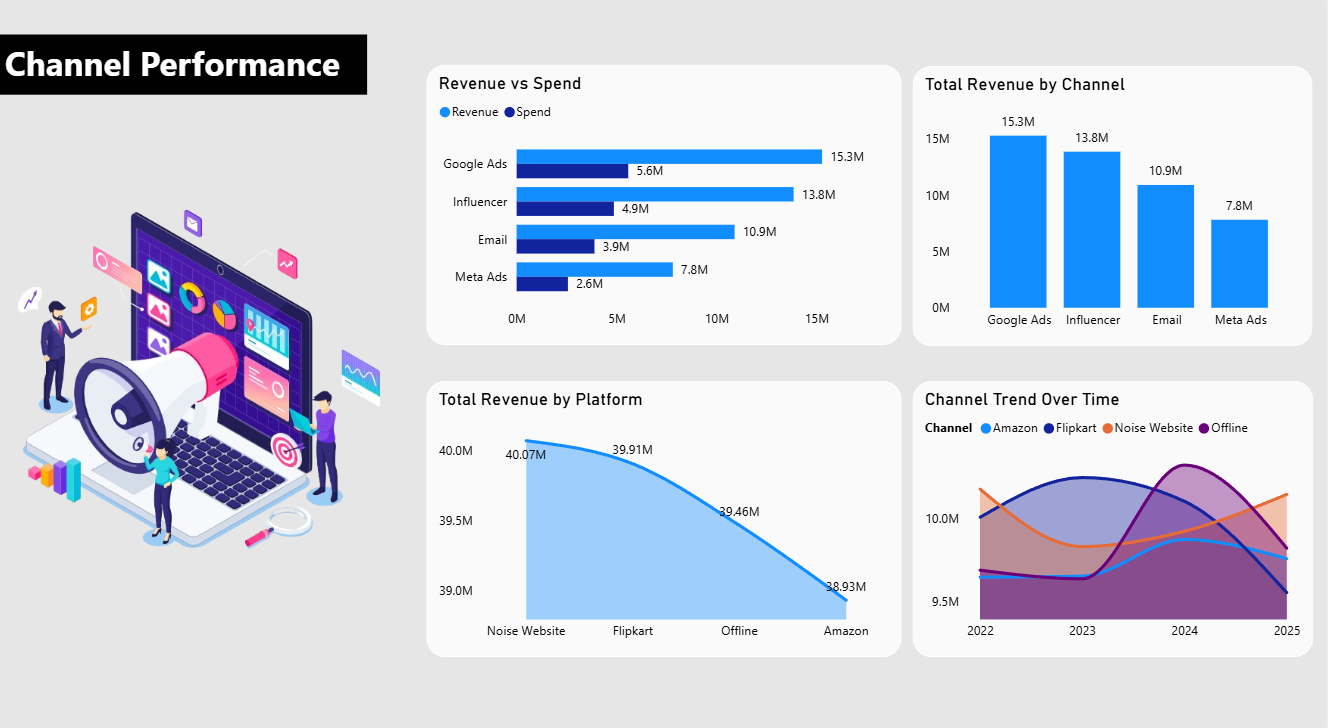

The page's visual inventory and layout, read from the dashboard file:
{"tool":"powerbi","page":{"name":"Channel Performance","canvas":[1280,720],"ordinal":3},"visuals":[{"type":"textbox","box":[0,42.5,355.4,57.6],"z":0},{"type":"clusteredColumnChart","title":"Total Revenue by Channel","fields":{"Y":["Sum(marketing.Revenue)"],"Category":["marketing.Channel"]},"box":[882.3,72.7,385.6,270.3],"z":1000},{"type":"image","box":[0,134.5,381.5,481.6],"z":2000},{"type":"lineChart","title":"Total Revenue by Platform","fields":{"Category":["sales.Channel"],"Y":["sales.Total Revenue"]},"box":[413,376,458.3,266.2],"z":3000},{"type":"clusteredBarChart","title":"Revenue vs Spend","fields":{"Category":["marketing.Channel"],"Y":["Sum(marketing.Revenue)","Sum(marketing.Spend)"]},"box":[413,71.4,458.3,270.3],"z":4000},{"type":"lineChart","title":"Channel Trend Over Time","fields":{"Series":["sales.Channel"],"Y":["Sum(sales.Revenue)"],"Category":["sales.OrderDate.Variation.Date Hierarchy.Year"]},"box":[882,376,386,266],"z":5000}]}

Visuals, with their boxes in screenshot pixels (x1, y1, x2, y2), scaled from the page's 1280x720 canvas onto the 1328x728 screenshot:
textbox: <region>0, 43, 369, 101</region>
"Total Revenue by Channel" clusteredColumnChart: <region>915, 74, 1315, 347</region>
image: <region>0, 136, 396, 623</region>
"Total Revenue by Platform" lineChart: <region>428, 380, 904, 649</region>
"Revenue vs Spend" clusteredBarChart: <region>428, 72, 904, 345</region>
"Channel Trend Over Time" lineChart: <region>915, 380, 1316, 649</region>
